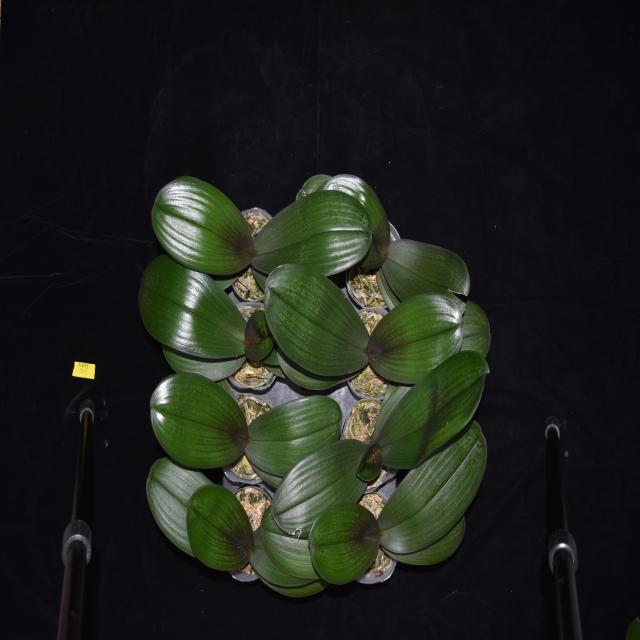leaf: (380, 417, 490, 556), (382, 354, 491, 481), (140, 252, 246, 364), (253, 186, 372, 285), (264, 263, 365, 379), (150, 177, 257, 281), (148, 365, 247, 474), (368, 292, 465, 388), (273, 438, 366, 534), (145, 455, 223, 568), (245, 396, 347, 479), (381, 238, 476, 310), (310, 501, 378, 598), (185, 482, 252, 574), (378, 511, 468, 576), (248, 526, 319, 594), (260, 507, 317, 581), (275, 348, 366, 393), (162, 344, 247, 381), (246, 302, 280, 369), (459, 297, 496, 357), (355, 441, 382, 486)
